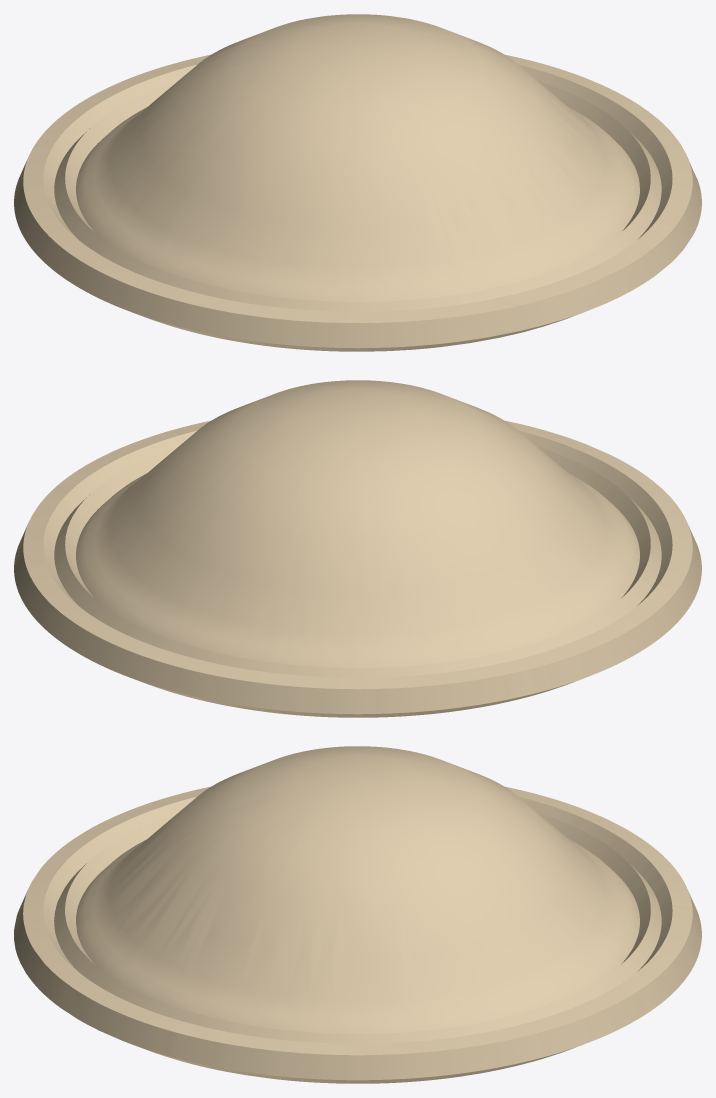
File: dumpling_opt.glb
3 renders of one model, top to bottom at view 1: azimuth 30°, elevation 25°; view 2: azimuth 150°, elevation 25°; view 3: azimuth 270°, elevation 25°, orthographic.
Visible parts, largest first — view 1: dumpling; view 2: dumpling; view 3: dumpling.
Part boxes in pixels (x1,y1,x2,y2): dumpling: (14,14,701,351); dumpling: (14,380,701,717); dumpling: (14,746,701,1083).
Size of the model in its own units: 44.4 by 12.2 by 44.39.
